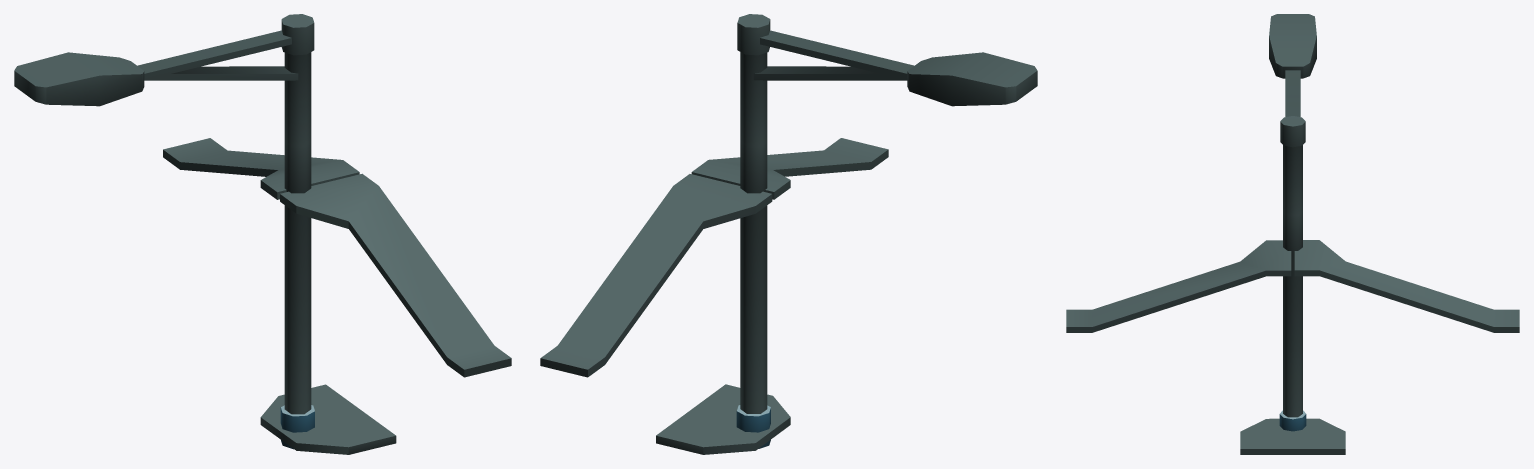
File: Bridge_Streetlight_1A.fbx
3 renders of one model, left to right at view 1: azimuth 30°, elevation 25°; view 2: azimuth 150°, elevation 25°; view 3: azimuth 270°, elevation 25°, orthographic. The views are drawn at different scales.
Parts seen in each view (by area): view 1: Bridge_Streetlight_1A; view 2: Bridge_Streetlight_1A; view 3: Bridge_Streetlight_1A.
Part boxes in pixels (<box>): Bridge_Streetlight_1A: <box>14,14,511,454</box>; Bridge_Streetlight_1A: <box>540,14,1037,454</box>; Bridge_Streetlight_1A: <box>1066,14,1519,454</box>.
Bounding box in the file's own units: 384 × 469 × 596.
